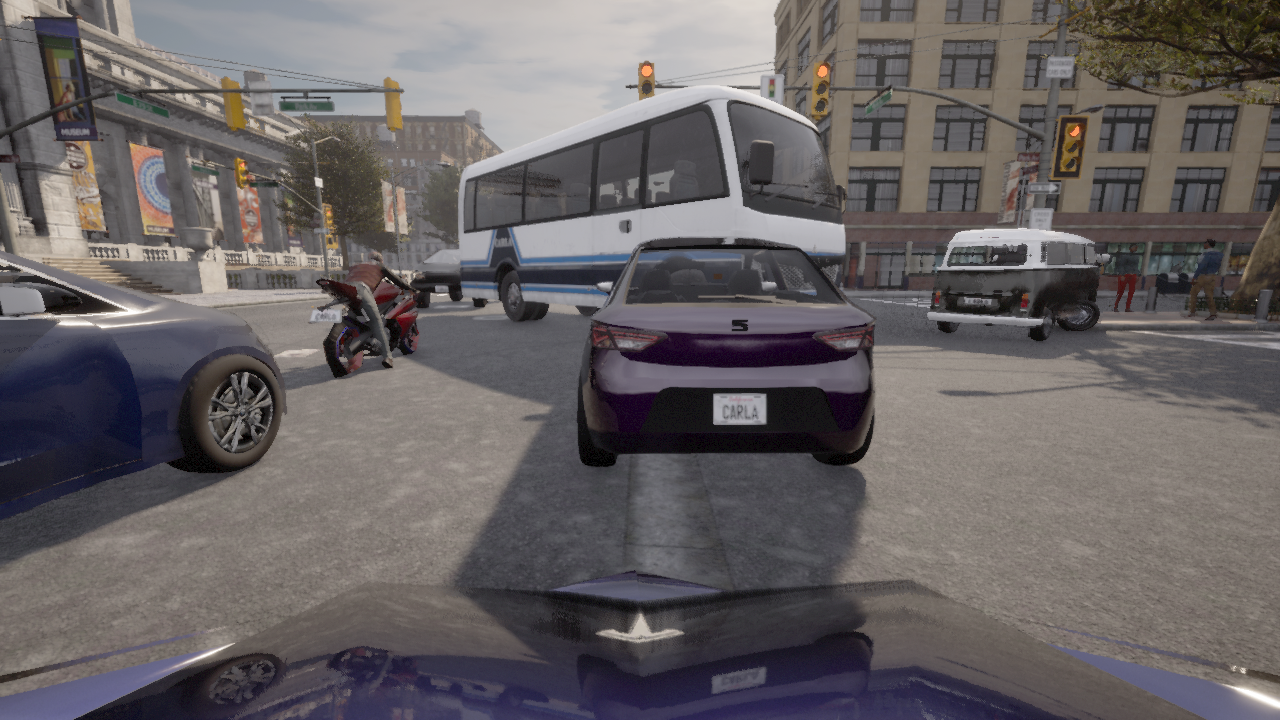cyclist: (0, 569, 1279, 719), (458, 85, 847, 321), (577, 237, 876, 466), (928, 227, 1111, 341), (308, 272, 425, 377), (410, 249, 501, 308)
pedestrian: (1180, 238, 1224, 319), (1113, 242, 1140, 312), (1170, 260, 1182, 274)
